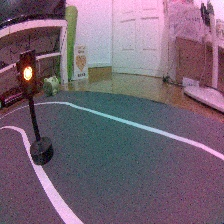amber: (14, 46, 56, 167)
